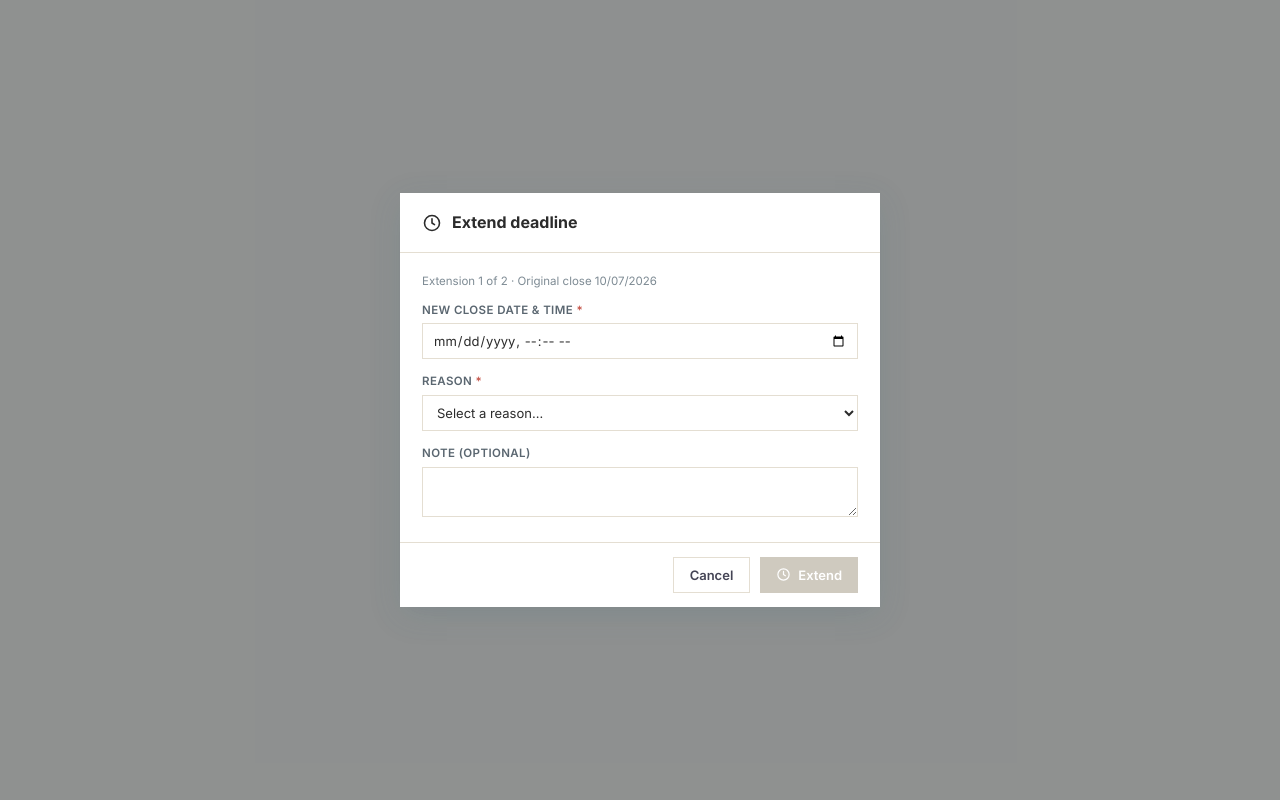
Scenario: RfqGovernance components › ExtendModal blocks a backward date and enables a forward one
This screenshot has width=1280, height=800.
Check: the button "Extend" is disabled, box x1=760 y1=557 x2=858 y2=593
a backward date keeps it disabled and shows the inline hint
Type "2026-07-05T00:00" into the field named "New close date and time".
click(640, 341); type("2026-07-05T00:00")  # box x1=422 y1=323 x2=858 y2=359
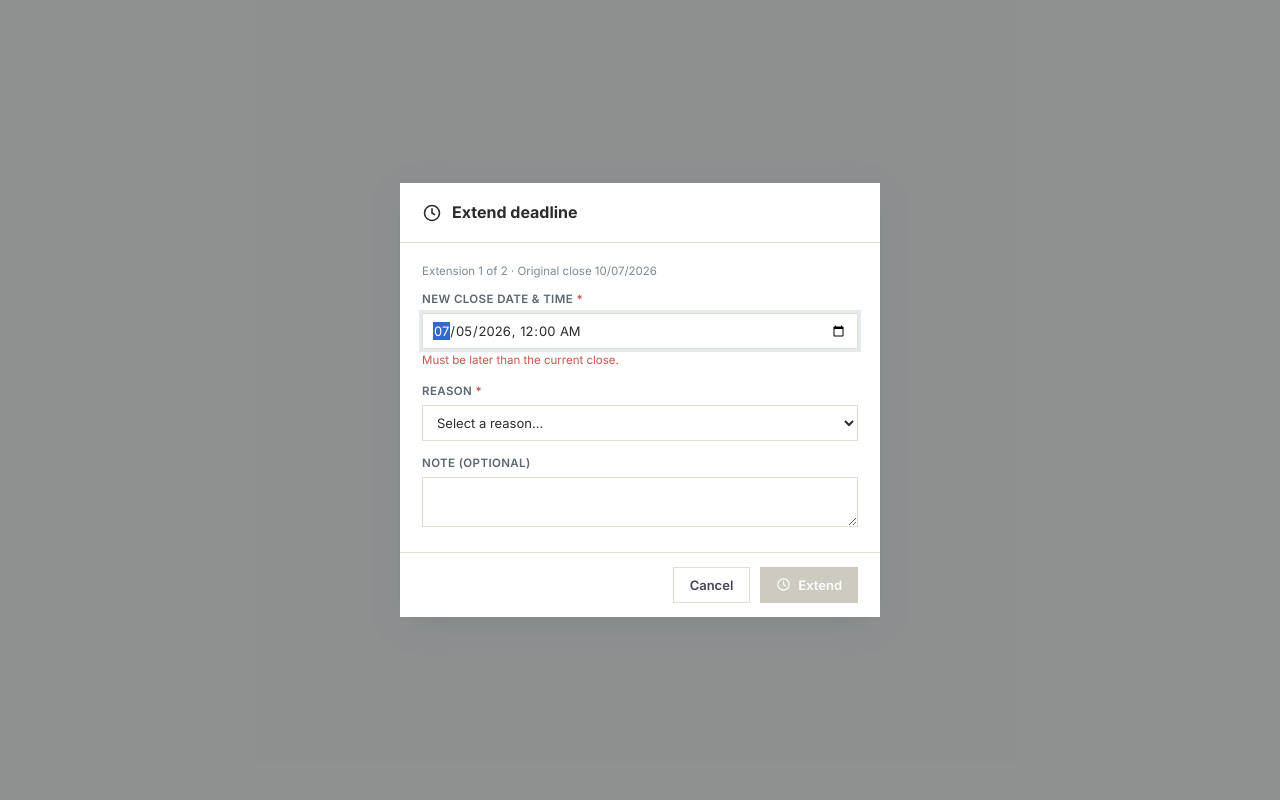
Check: the button "Extend" is disabled, box x1=760 y1=567 x2=858 y2=603
Check: the text "Must be later than the current close." is shown, box x1=422 y1=353 x2=619 y2=367
a forward date + reason enables it
Clear the field named "New close date and time" at x=640, y=331, box x1=422 y1=313 x2=858 y2=349
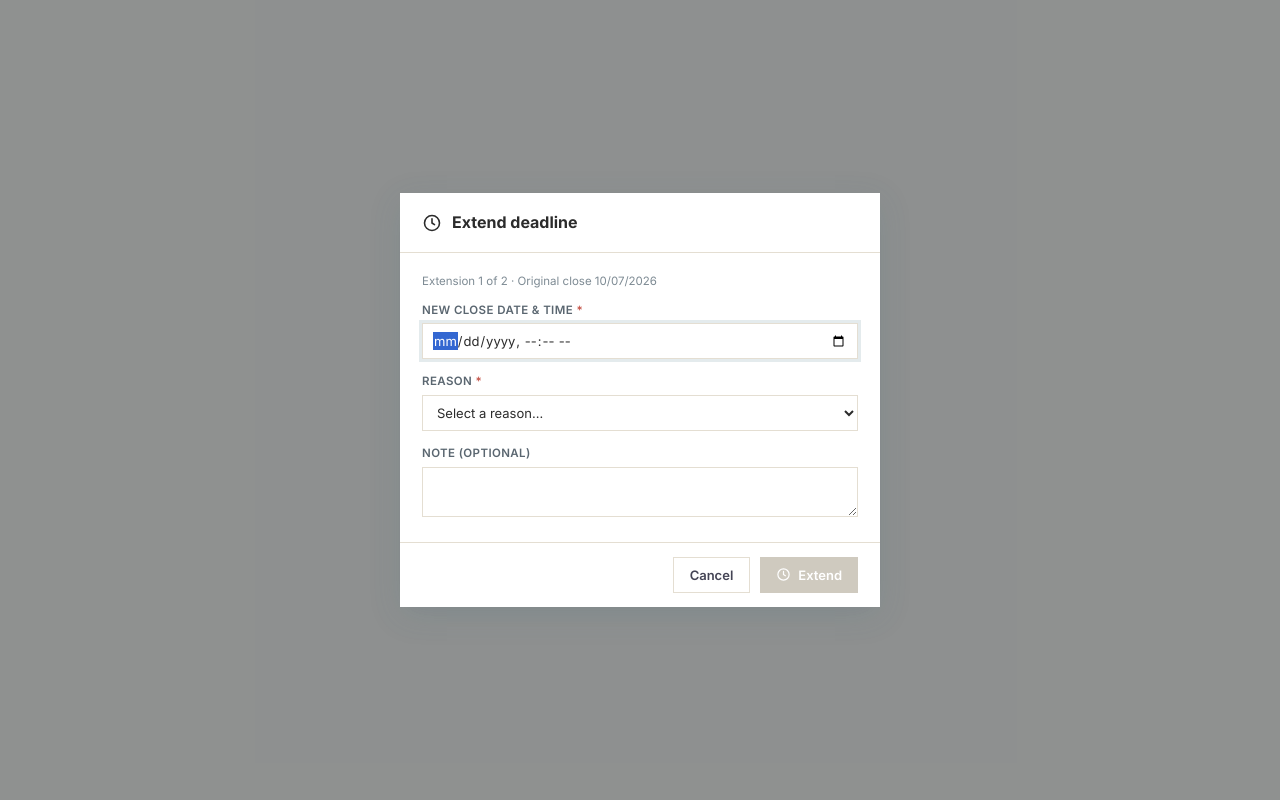
Type "2026-07-20T00:00" into the field named "New close date and time".
click(640, 341); type("2026-07-20T00:00")  # box x1=422 y1=323 x2=858 y2=359
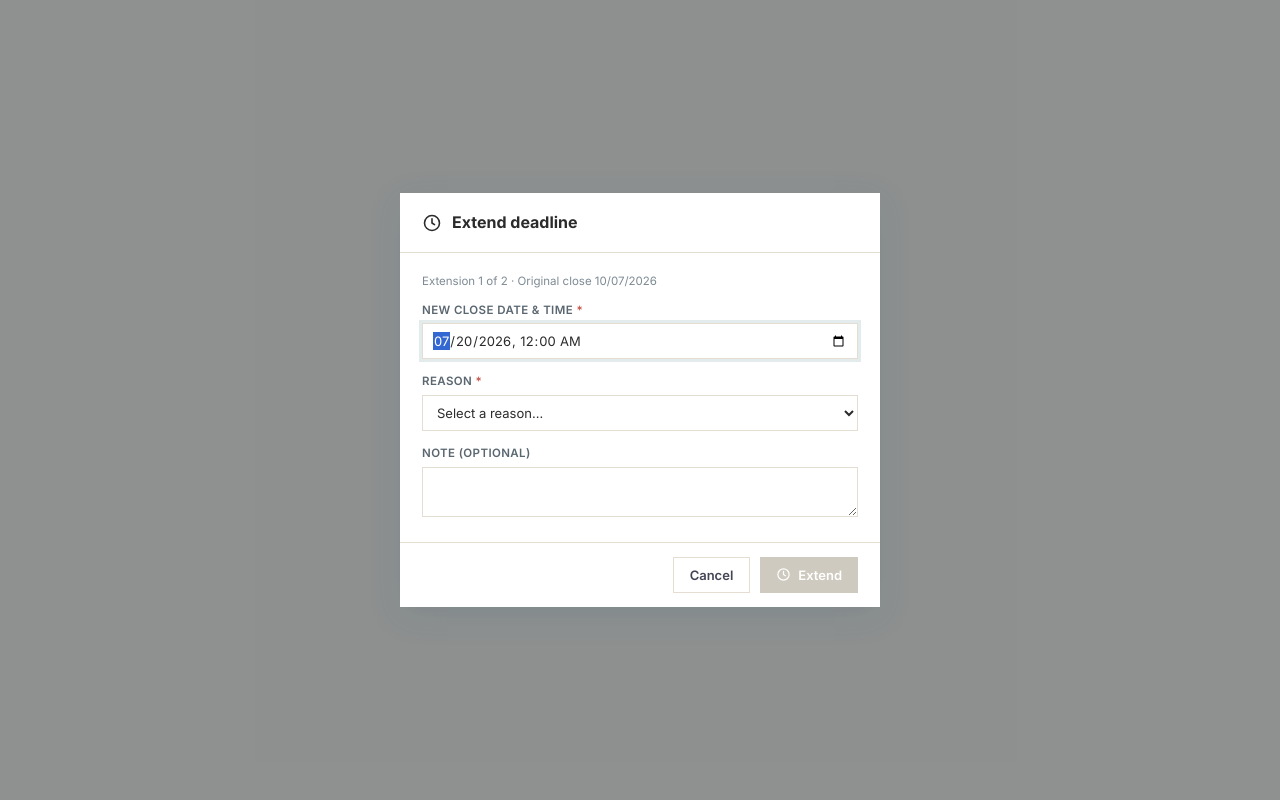
Select "Insufficient responses" in the dropdown named "Extension reason" at x=640, y=413, box x1=422 y1=395 x2=858 y2=431
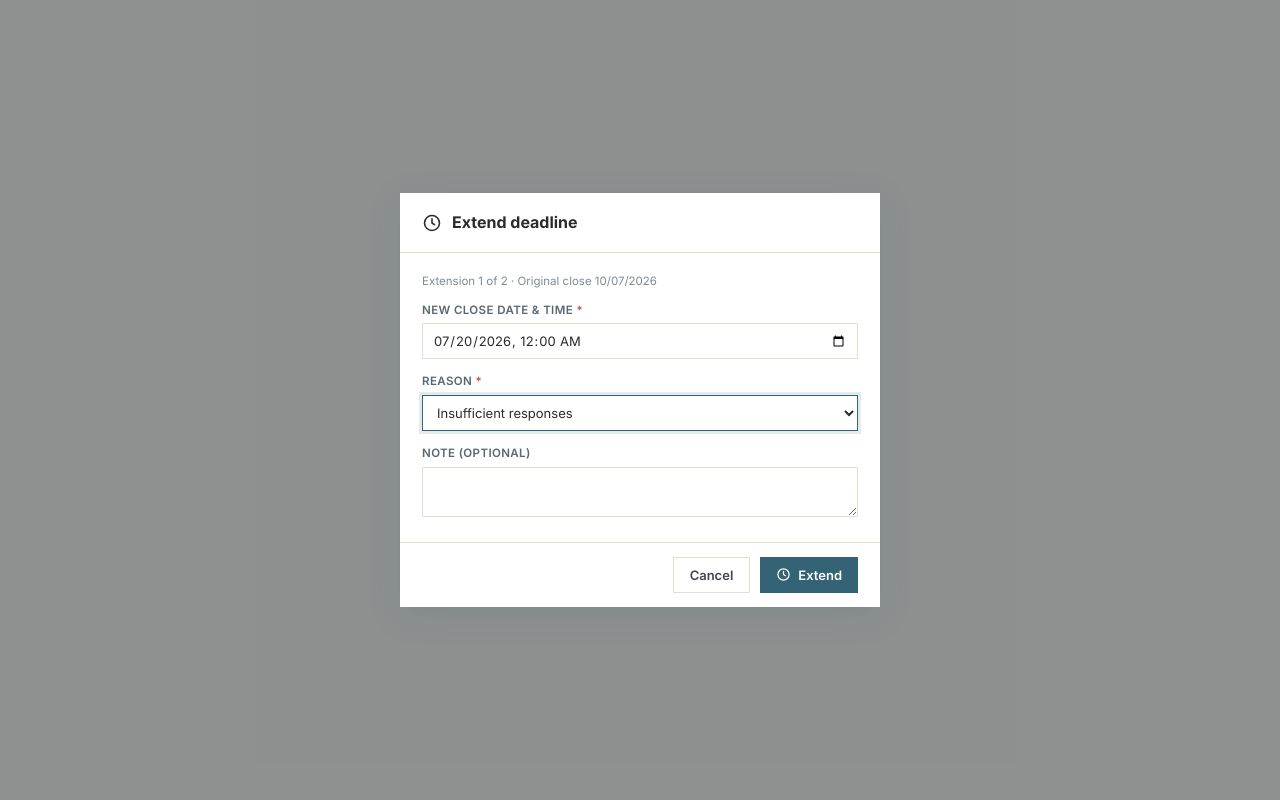
Check: the button "Extend" is enabled, box x1=760 y1=557 x2=858 y2=593
